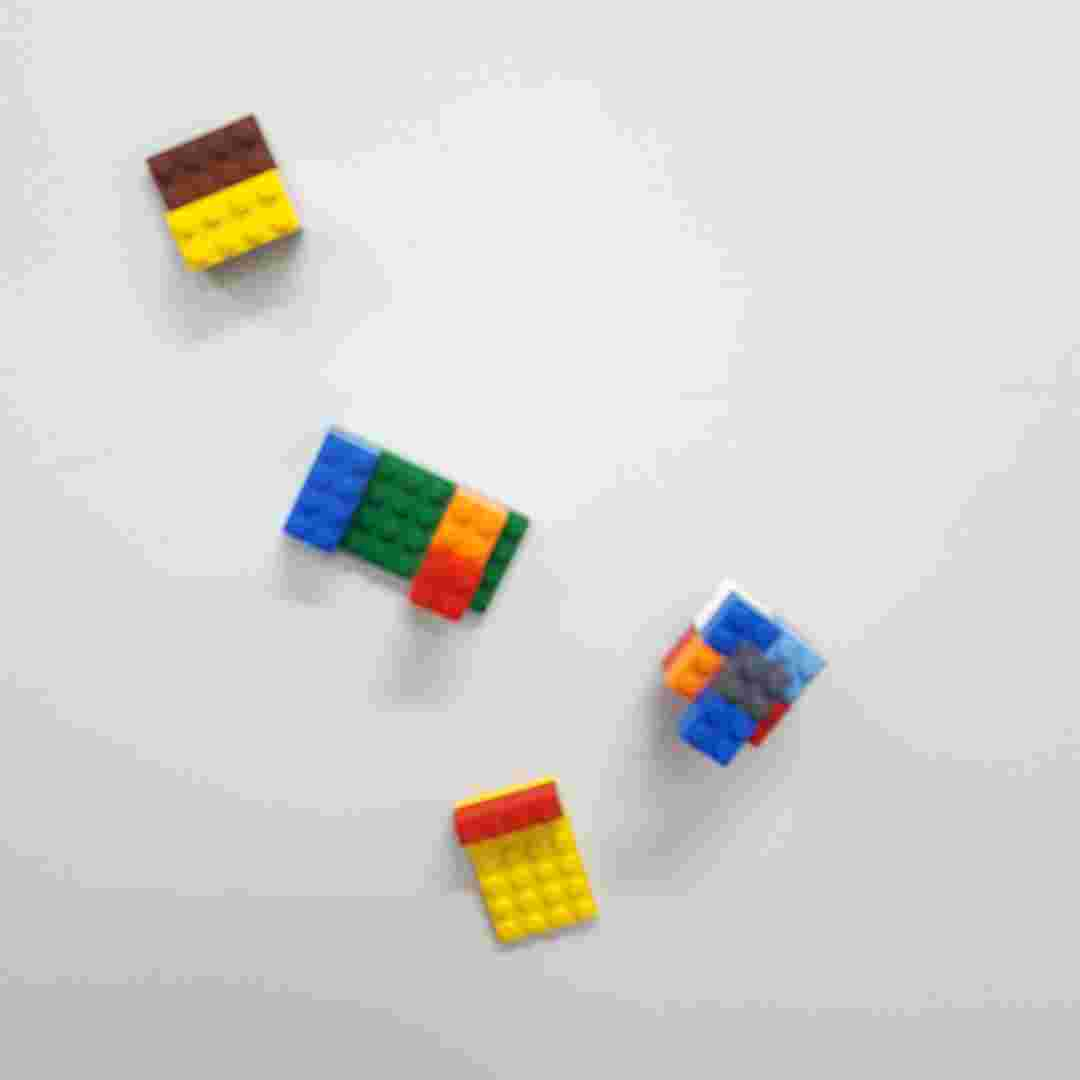LEGO: (280, 419, 534, 630), (655, 579, 829, 764), (141, 105, 307, 274), (446, 771, 602, 946)
